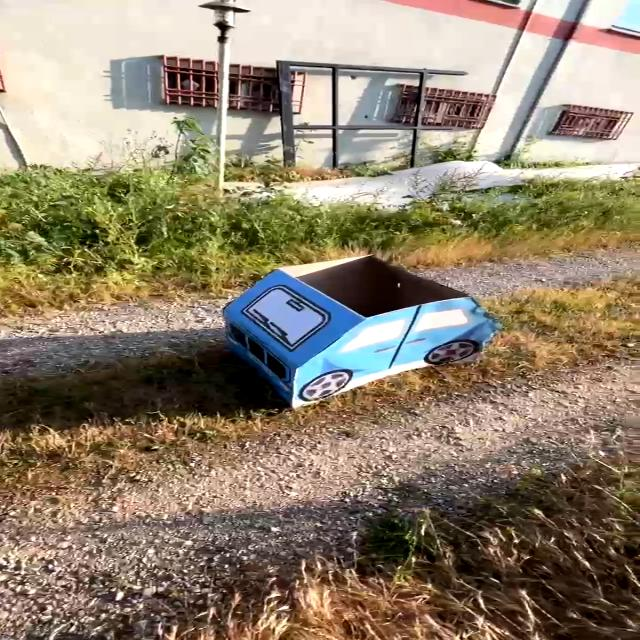blue_car: (181, 230, 505, 421)
